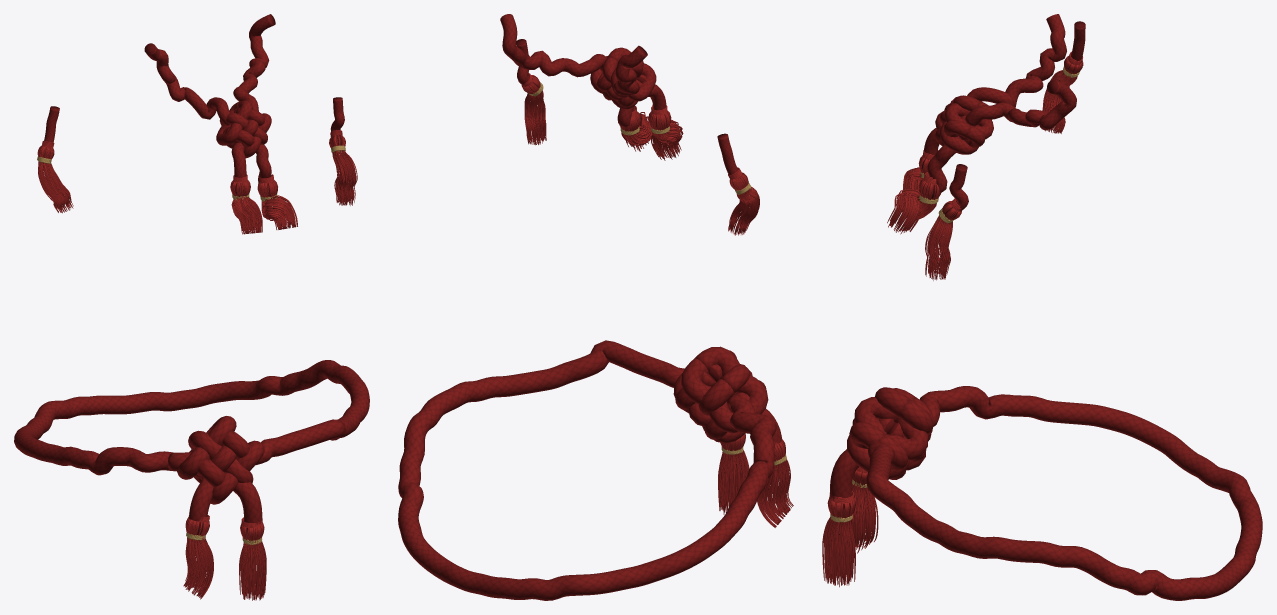
File: body-v2-pass8-cords.glb
The picture shows the model from 3 angles, left to right: view 1: azimuth 30°, elevation 25°; view 2: azimuth 150°, elevation 25°; view 3: azimuth 270°, elevation 25°; orthographic projection. The views are drawn at different scales.
Visible parts, largest first — view 1: Sanada / cords; view 2: Sanada / cords; view 3: Sanada / cords.
Boxes of the visible parts, x1,y1,x2,y2 form: Sanada / cords: (14, 14, 369, 600); Sanada / cords: (398, 14, 793, 600); Sanada / cords: (822, 14, 1262, 600).
Bounding box in the file's own units: 0.3941 × 0.5998 × 0.4257.
4 materials, 1 textured.
